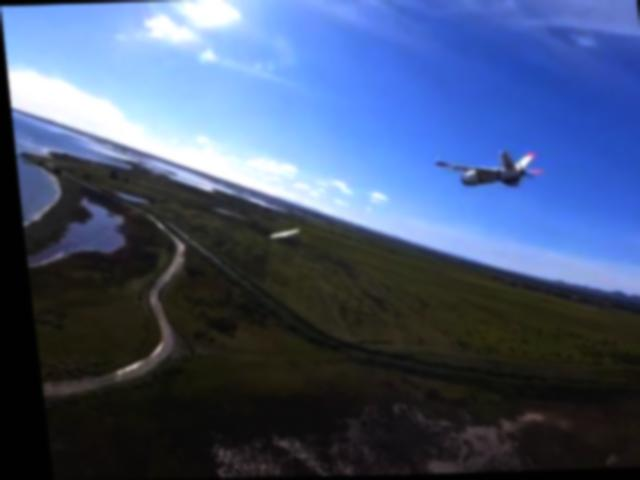uav: (430, 146, 542, 188), (261, 226, 298, 241)
